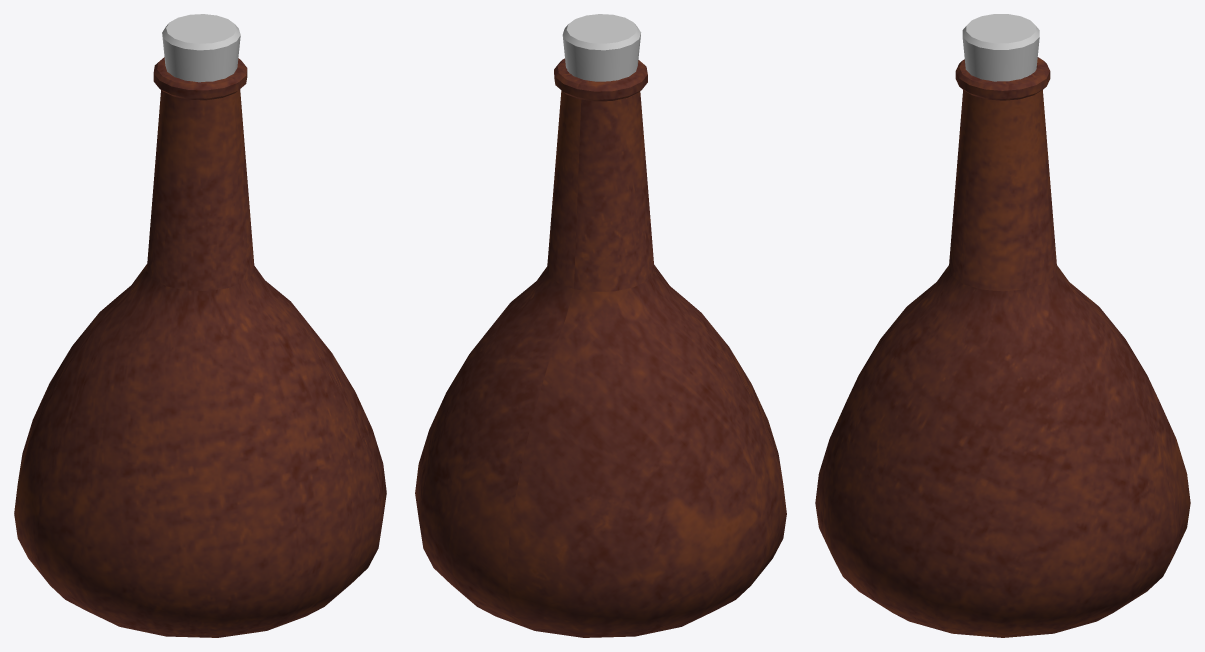
File: Bottle2_Magnant_Grace.FBX
The picture shows the model from 3 angles, left to right: view 1: azimuth 30°, elevation 25°; view 2: azimuth 150°, elevation 25°; view 3: azimuth 270°, elevation 25°; orthographic projection.
Visible parts, largest first — view 1: Test001; view 2: Test001; view 3: Test001.
Boxes of the visible parts, x1,y1,x2,y2 form: Test001: [14, 14, 386, 637]; Test001: [415, 14, 786, 637]; Test001: [815, 14, 1190, 637].
Bounding box in the file's own units: 20.74 × 33.72 × 20.74.
